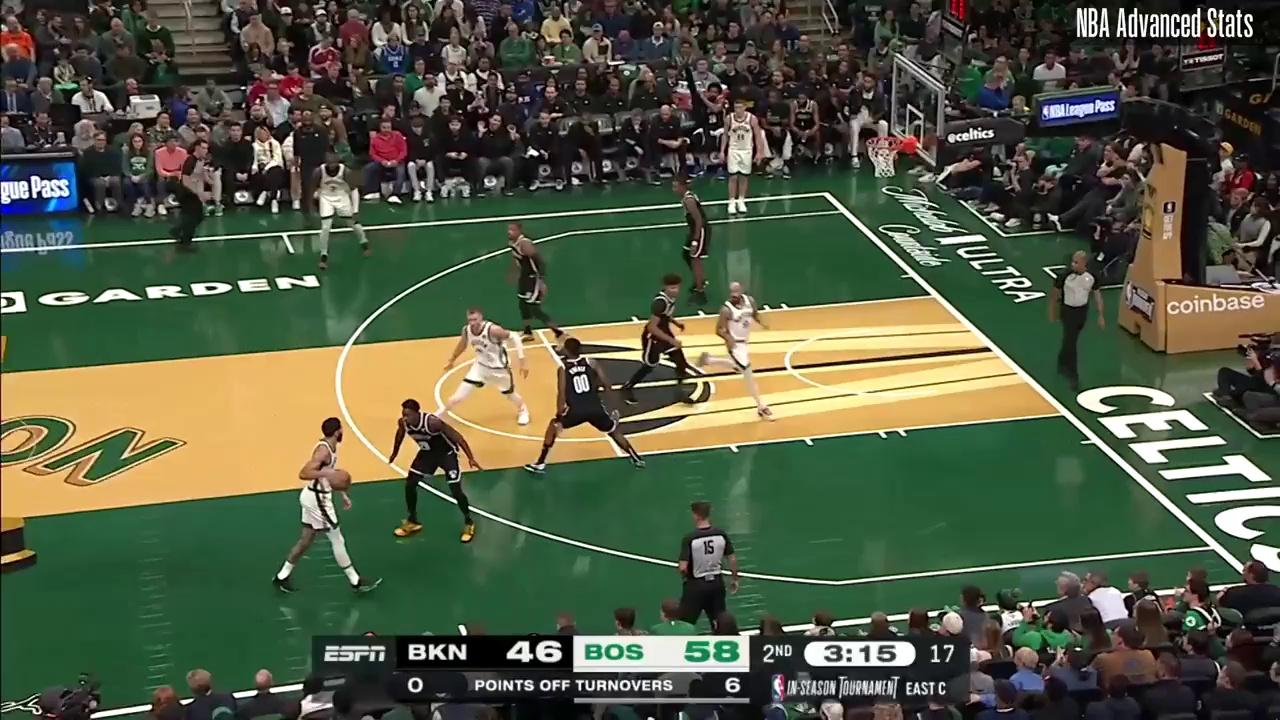3_dx: (1205, 538, 1224, 555)
3_sx: (837, 204, 850, 216)
b_sx: (819, 188, 831, 198)
free_adx: (612, 446, 632, 464)
free_asx: (533, 325, 546, 338)
free_bdx: (1057, 406, 1074, 420)
free_bsx: (929, 290, 942, 301)
mid_dx: (454, 618, 468, 630)
mid_sx: (285, 246, 298, 258)
referee: (1050, 250, 1106, 389), (676, 502, 739, 622), (174, 140, 207, 250)
team: (279, 417, 379, 593), (440, 311, 532, 426), (707, 281, 773, 422), (312, 149, 373, 268), (721, 99, 761, 214)
team1: (536, 337, 645, 470), (388, 399, 479, 541), (626, 272, 694, 411), (505, 221, 568, 339), (670, 178, 714, 299)
timer: (821, 637, 902, 669)
